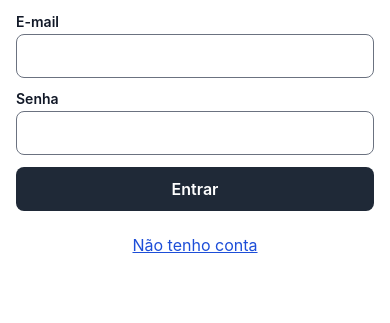
Test: C08: shows the ActivityIndicator and blocks a second press while signing in
In the field with test id "login.email": {"x": 195, "y": 56} [16,34,374,78], type "ana@exemplo.com"
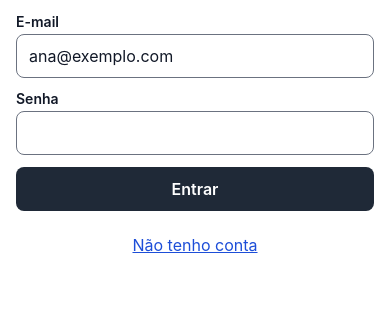
In the password field with test id "login.password": {"x": 195, "y": 133} [16,111,374,155], type "segredo123"
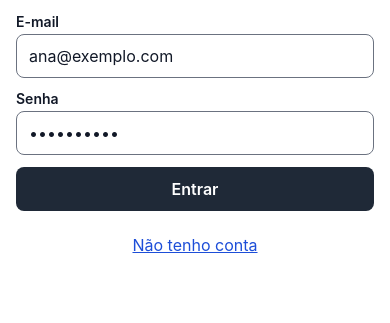
Click the button with test id "login.submit": {"x": 195, "y": 189} [16,167,374,211]
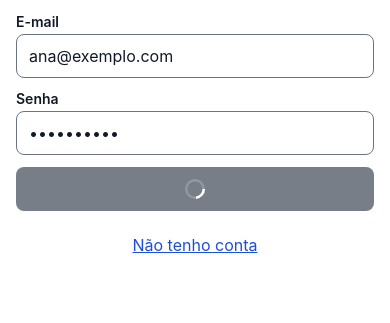
Expected: the progress indicator with test id "loading" is shown, [185,179,205,199]
Expected: the button with test id "login.submit" is disabled
Click the button with test id "login.submit": {"x": 195, "y": 189} [16,167,374,211]
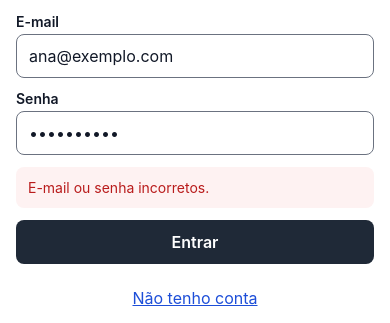
Expected: the message "E-mail ou senha incorretos." is shown, [16,167,374,208]
Expected: the progress indicator with test id "loading" is gone
